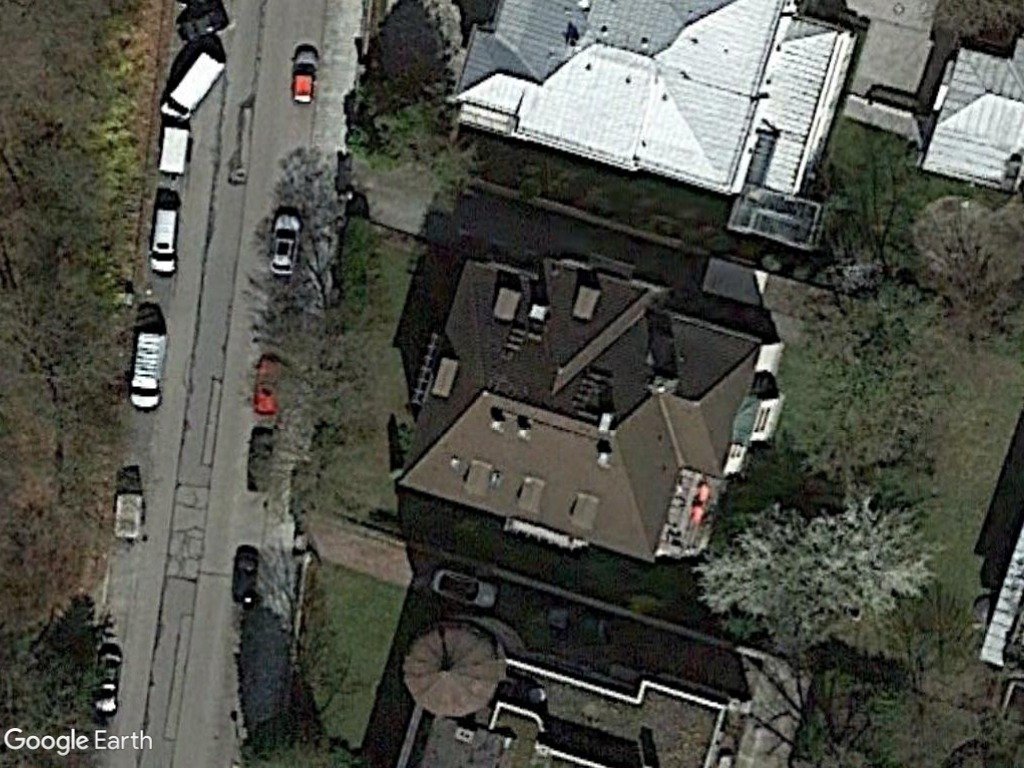car: (263, 210, 301, 279)
van: (156, 47, 228, 125), (128, 327, 169, 416), (146, 204, 181, 280)
